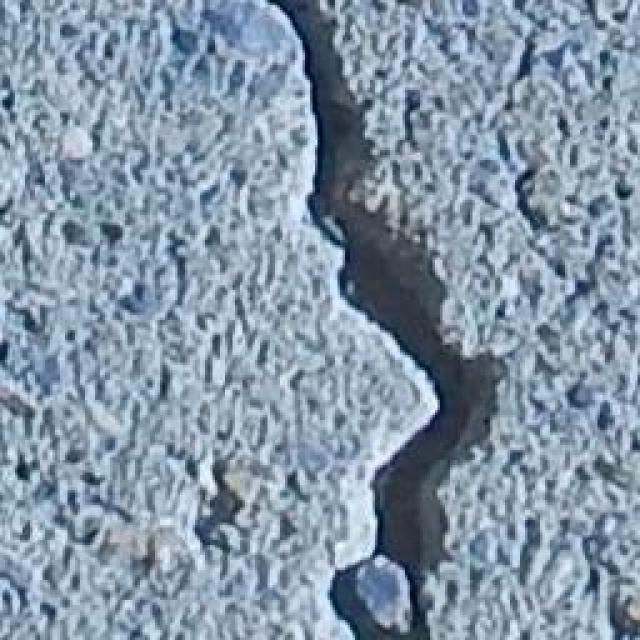concrete-crack: (262, 2, 510, 640)
